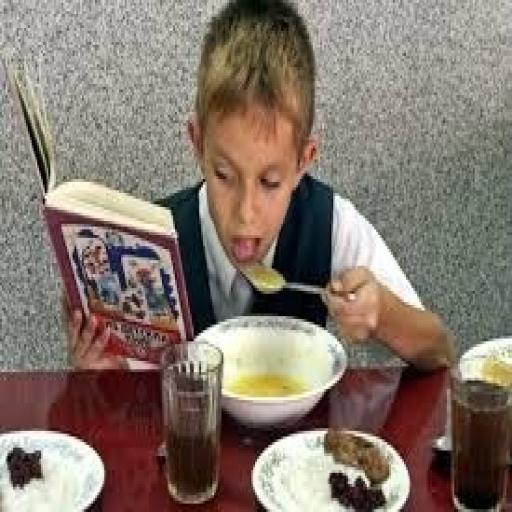eating: (60, 0, 456, 378)
